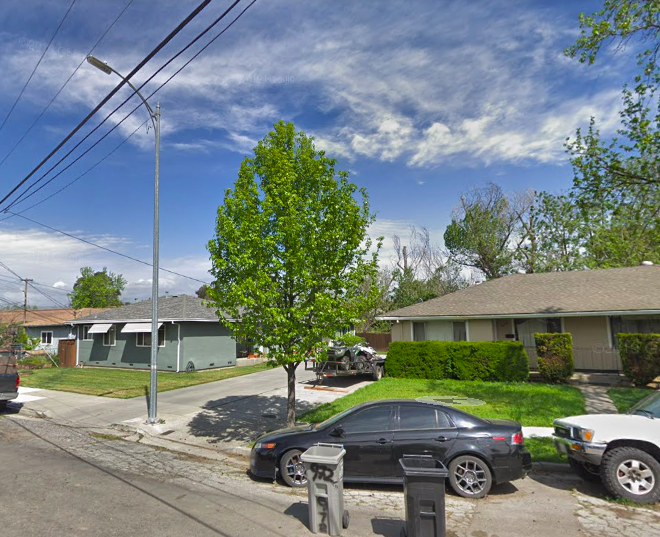tree: (195, 118, 382, 427)
